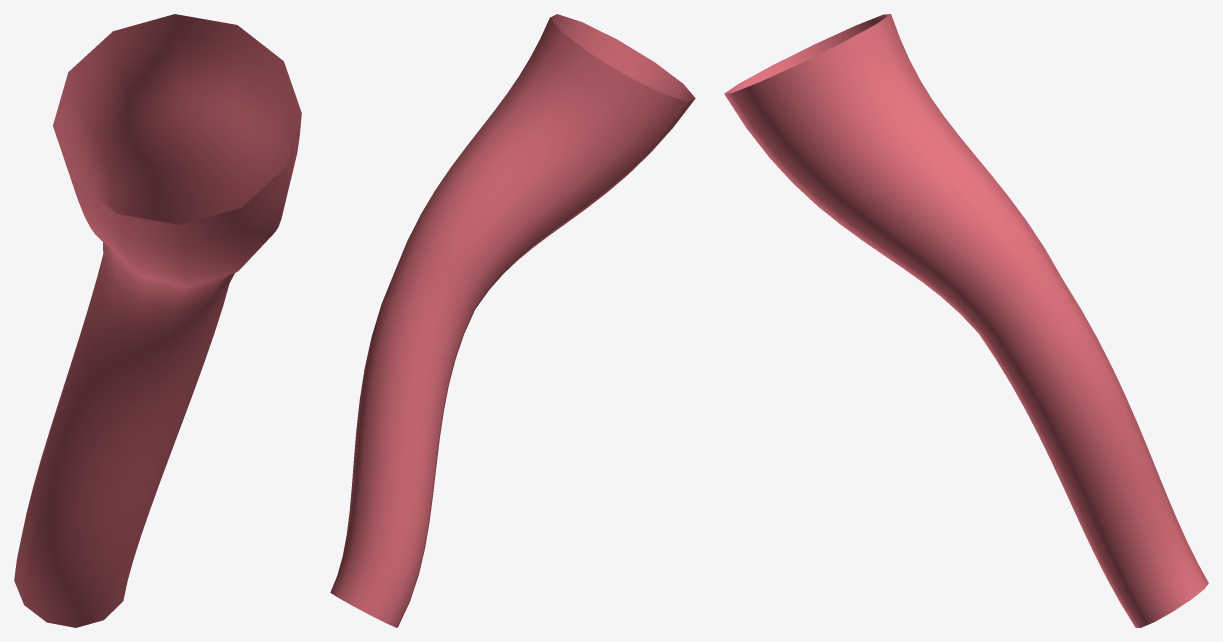
The picture shows the model from 3 angles, left to right: view 1: azimuth 30°, elevation 25°; view 2: azimuth 150°, elevation 25°; view 3: azimuth 270°, elevation 25°; orthographic projection. The views are drawn at different scales.
Parts seen in each view (by area): view 1: ZA_a00f9f83c45c9a43; view 2: ZA_a00f9f83c45c9a43; view 3: ZA_a00f9f83c45c9a43.
Part boxes in pixels (x1,y1,x2,y2): ZA_a00f9f83c45c9a43: (14,14,301,627); ZA_a00f9f83c45c9a43: (330,14,695,627); ZA_a00f9f83c45c9a43: (724,14,1208,627).
Size of the model in its own units: 0.0182 by 0.0438 by 0.0338.
